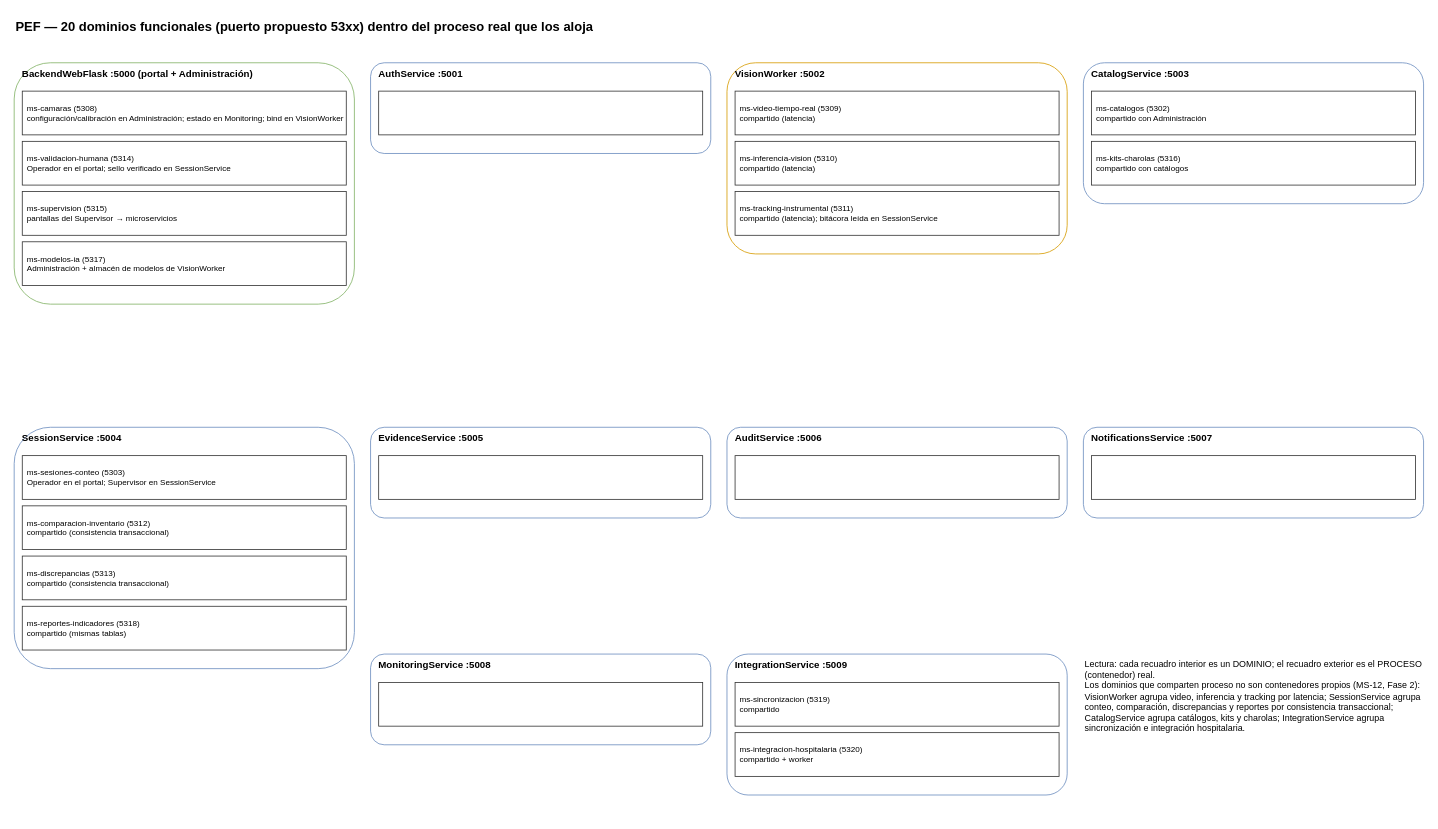
This 1438x829 diagram has some shape labels left out. The centre of each missing label's shape, as x and y in pixels:
ms-auditoria (5305) consulta propia; escritura en cada servicio: point (896, 477)
ms-auth (5301) propio: point (540, 112)
ms-evidencias (5304) propio: point (540, 477)
ms-monitoreo (5307) propio + collector: point (540, 704)
ms-notificaciones (5306) propio + worker: point (1253, 477)
